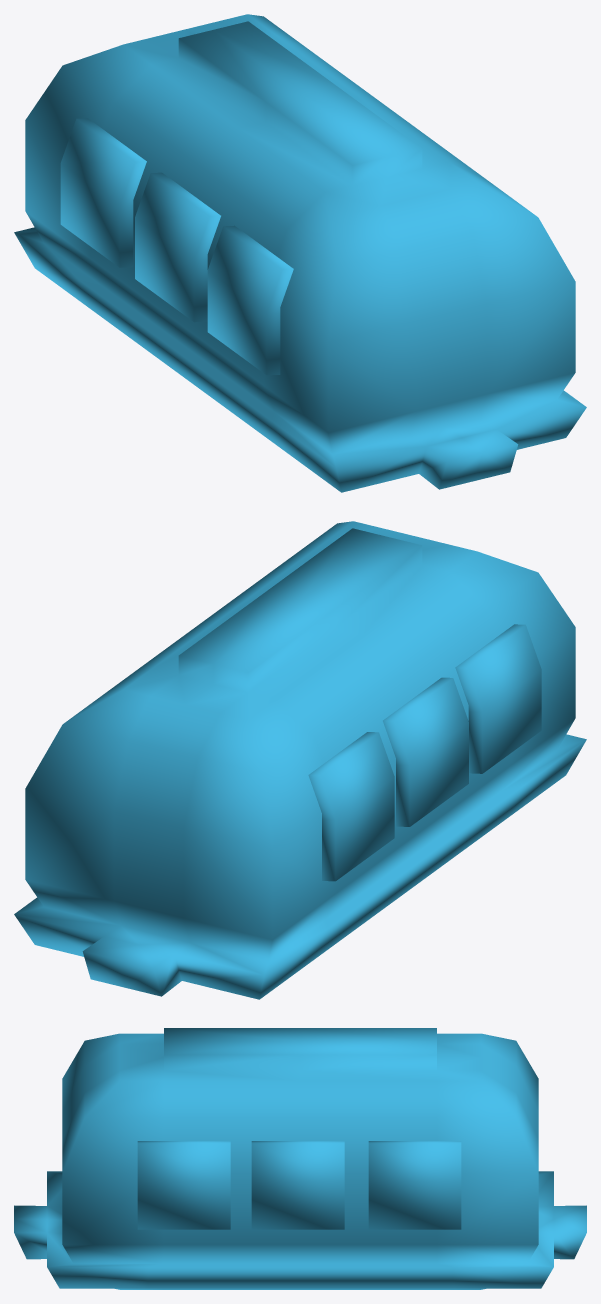
The model's file is TrainMiddle.glb.
3 renders of one model, top to bottom at view 1: azimuth 30°, elevation 25°; view 2: azimuth 150°, elevation 25°; view 3: azimuth 270°, elevation 25°, orthographic. The views are drawn at different scales.
Parts seen in each view (by area): view 1: Train Middle; view 2: Train Middle; view 3: Train Middle.
Part boxes in pixels (box(x1,y1,x2,y2)): Train Middle: box(14, 14, 586, 492); Train Middle: box(14, 521, 586, 999); Train Middle: box(14, 1028, 586, 1289).
Bounding box in the file's own units: 1.12 × 1.12 × 2.58.
